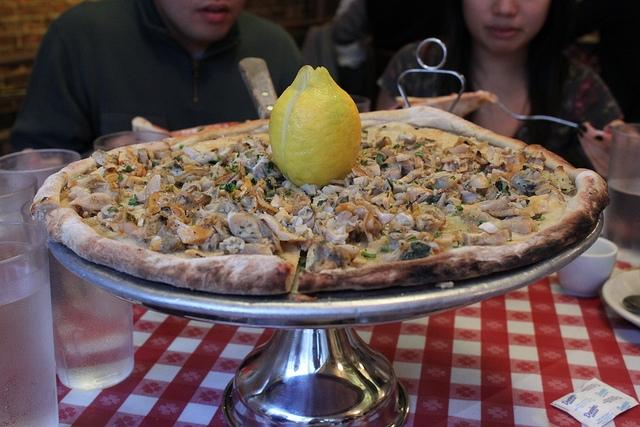lemon: (268, 65, 362, 189)
